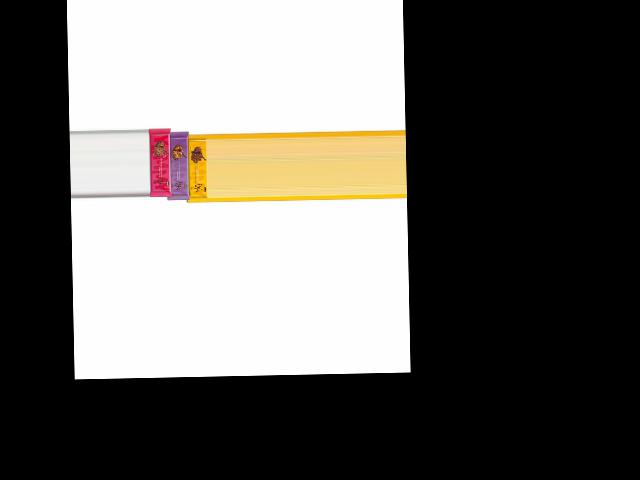chocolate: (147, 124, 171, 200)
